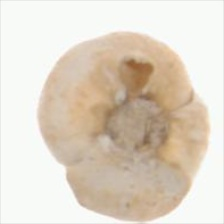L4: (37, 31, 210, 222)
